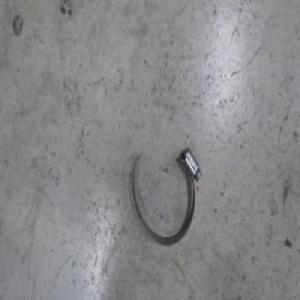AdjustableClamp: (131, 142, 204, 248)
